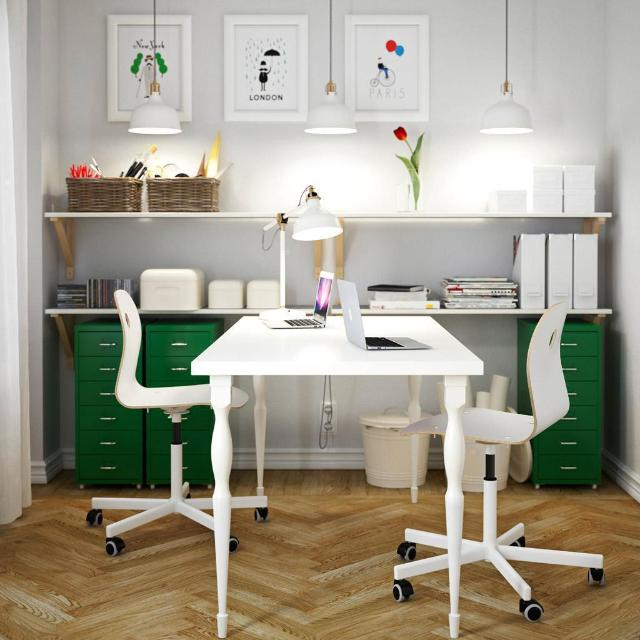chair: (461, 302, 604, 620), (88, 290, 214, 556), (394, 529, 450, 601), (404, 415, 450, 434)
light: (480, 0, 532, 135), (129, 0, 181, 134), (305, 0, 356, 135)
table: (191, 316, 484, 638)
wall-art: (345, 15, 429, 122), (224, 15, 308, 121), (108, 15, 152, 121), (156, 15, 191, 121)
